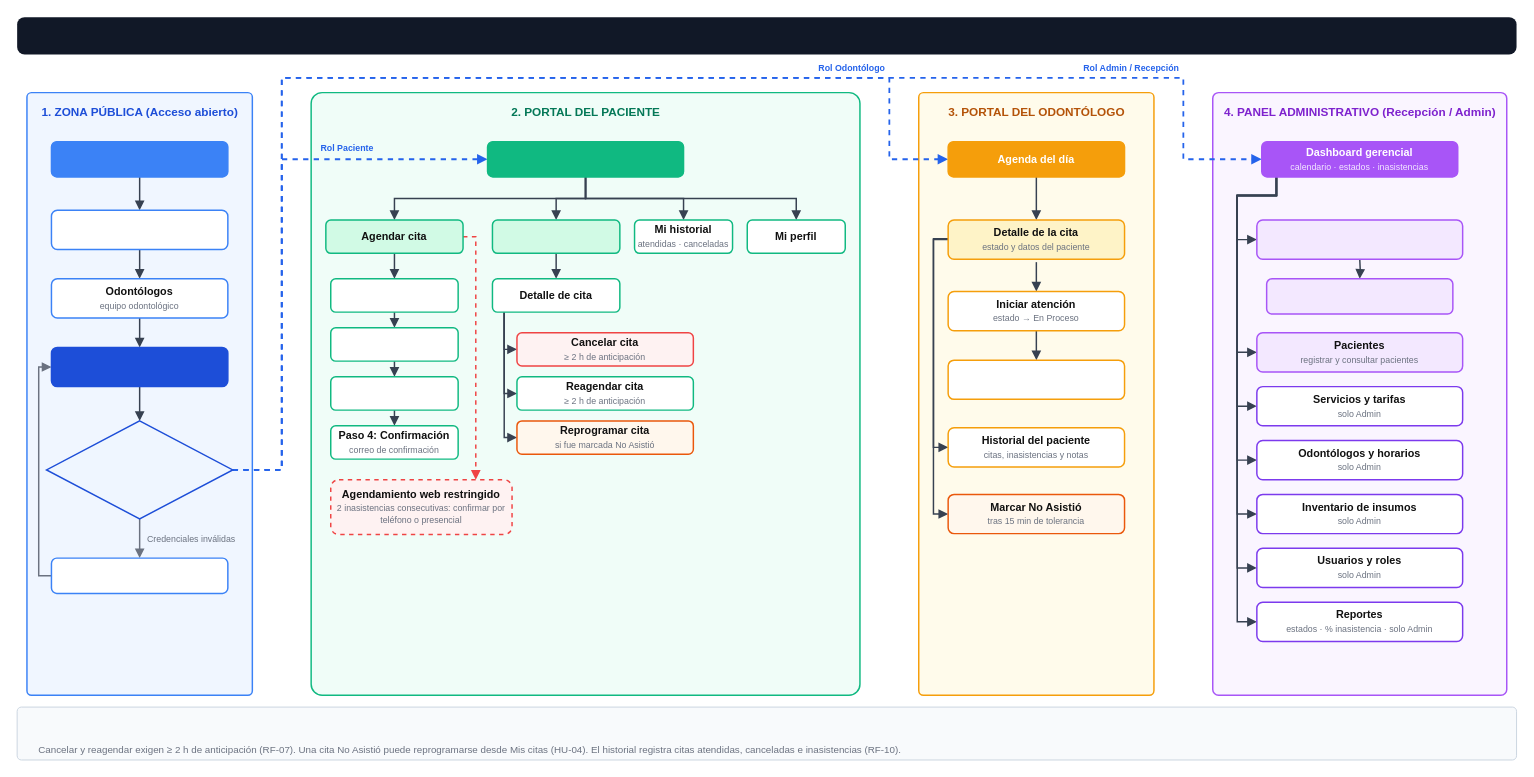
Image size: 1534x777. Some labels were removed from this diagram. The shapes that lost their labels are listed below. From the top down, each one's centre as x and y in pixels, then its label:
At (766,35): "MAPA DE NAVEGABILIDAD - ODONTOAGENDA CRM".
At (139,158): "Inicio (Landing page)".
At (585,158): "Panel del Paciente".
At (139,229): "Servicios catálogo público".
At (555,236): "Mis citas".
At (1359,239): "Agenda general (calendario) agendar, asignar y confirmar citas".
At (394,295): "Paso 1: Servicios uno o varios".
At (1359,296): "Cambiar estado de cita incluye Marcar No Asistió".
At (394,344): "Paso 2: Odontólogo horarios disponibles".
At (139,366): "Iniciar sesión / Registrarse".
At (1036,379): "Finalizar y registrar notas Atendido · historial e insumos".
At (394,393): "Paso 3: Fecha y hora calendario · duración total".
At (139,469): "Validar credenciales y rol de usuario".
At (139,575): "Recuperar contraseña".
